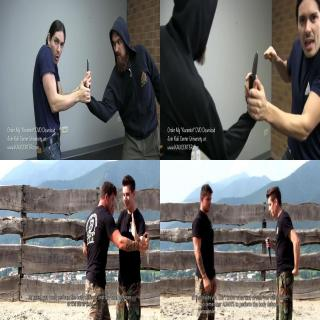knife: (243, 48, 259, 102), (264, 235, 272, 266), (143, 231, 150, 265), (84, 57, 92, 85)
